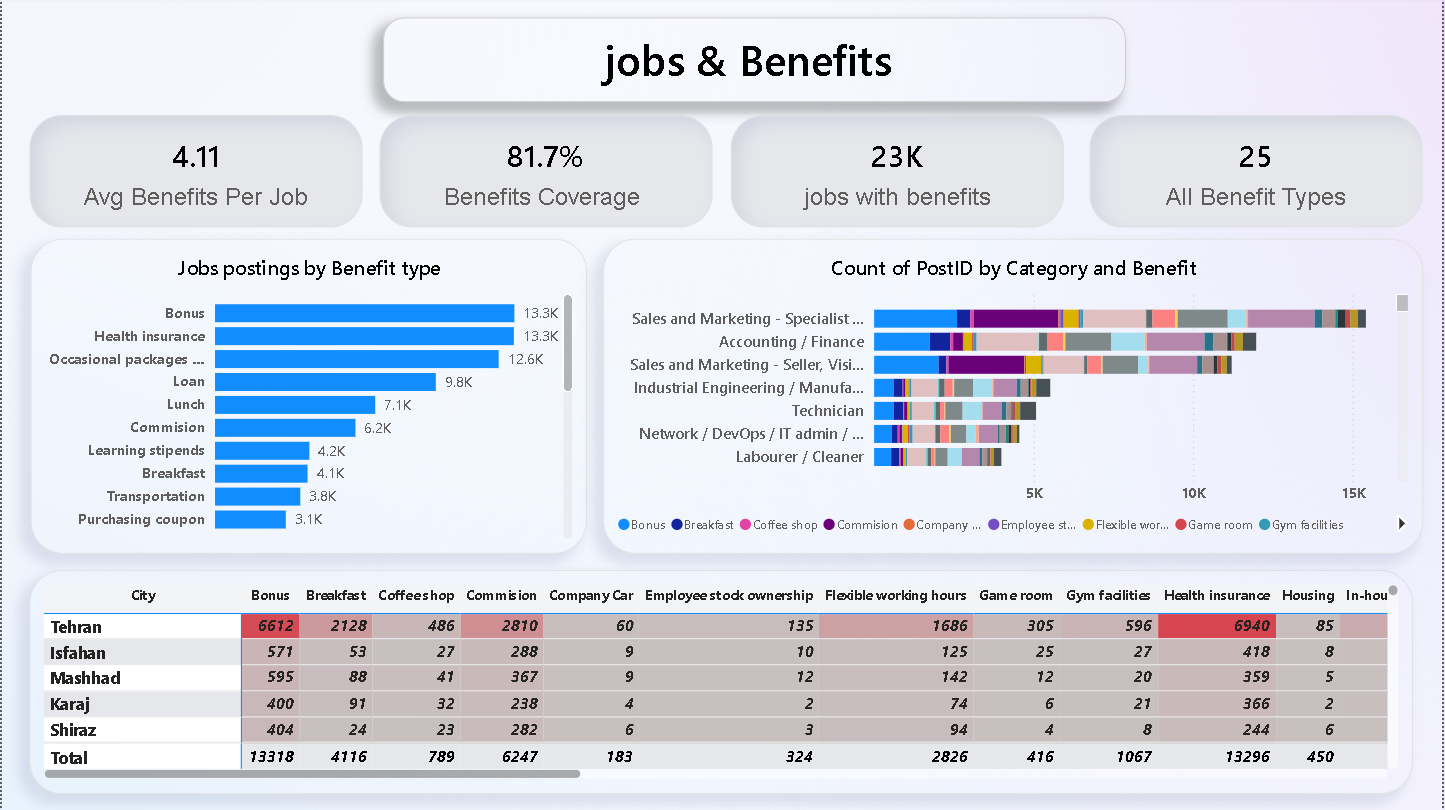

The dashboard page shown, as its layout file describes it:
{"tool":"powerbi","page":{"name":"4 ) Jobs & Benefits","canvas":[1280,720],"ordinal":3},"visuals":[{"type":"clusteredBarChart","title":"Jobs postings by Benefit  type","fields":{"Category":["Benefits.Benefit"],"Y":["CountNonNull(JobPost.PostID)"]},"box":[25.3,212.3,494.6,279.9],"z":0},{"type":"pivotTable","fields":{"Rows":["JobPost.City"],"Columns":["Benefits.Benefit"],"Values":["Benefits.Total Benefits per City"]},"box":[24,507,1229.7,199],"z":1000},{"type":"barChart","fields":{"Y":["CountNonNull(Benefits.PostID)"],"Category":["Job_Category.Category"],"Series":["Benefits.Benefit"]},"box":[534.5,212.3,728.7,279.9],"z":2000},{"type":"textbox","box":[339,15,660,75],"z":3000},{"type":"card","fields":{"Values":["Benefits.jobs with benefits s"]},"box":[648,102.4,296,100],"z":4000},{"type":"card","fields":{"Values":["Benefits.Benefits Coverage %"]},"box":[336,102,296,100],"z":5000},{"type":"card","fields":{"Values":["Benefits.Avg Benefits Per Job"]},"box":[24.2,102,296,100],"z":6000},{"type":"card","fields":{"Values":["Benefits.Distinct Benefit Types"]},"box":[967.1,102.4,296,100],"z":7000}]}

Visuals, with their boxes in screenshot pixels (x1, y1, x2, y2), scaled from the page's 1280x720 canvas onto the 1445x810 screenshot:
"Jobs postings by Benefit  type" clusteredBarChart: (29,239,587,554)
pivotTable - JobPost.City x Benefits.Benefit: (27,570,1415,794)
barChart - CountNonNull(Benefits.PostID) x Job_Category.Category: (603,239,1426,554)
textbox: (383,17,1128,101)
card - Benefits.jobs with benefits s: (732,115,1066,228)
card - Benefits.Benefits Coverage %: (379,115,713,227)
card - Benefits.Avg Benefits Per Job: (27,115,361,227)
card - Benefits.Distinct Benefit Types: (1092,115,1426,228)
